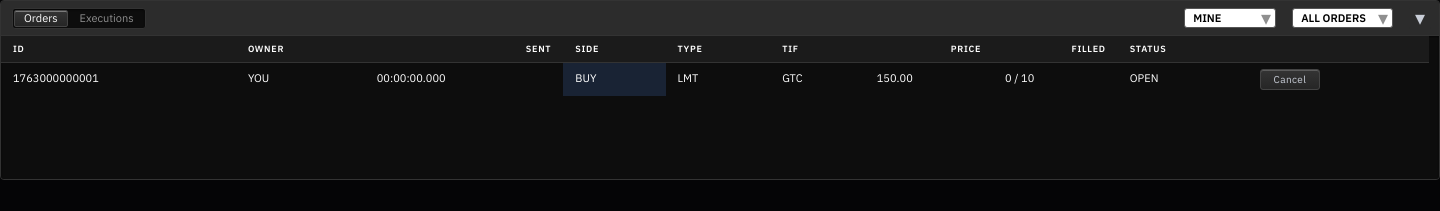
Test: OpenOrders owner filter and Owner column › a bot filter shows that bot alone, and an idle bot shows its empty line
The width and height of the screenshot is (1440, 211).
Click the button with test id "blotter-owner-filter-trigger" at (1230, 18), box [1184,8,1276,28]
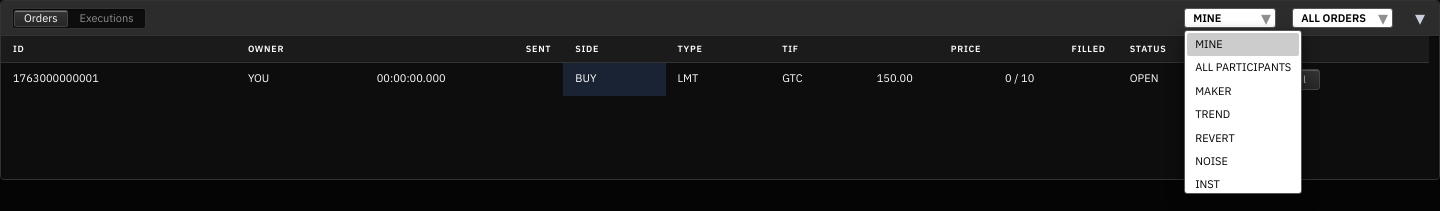
Press the mouse on the option "MAKER" at (1213, 91), box [1195,84,1232,98]
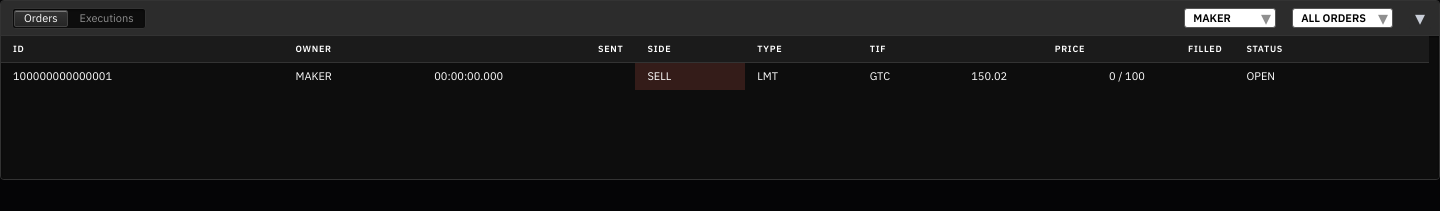
Expected: the number of rows with test id "open-orders-row" is 1, [1,63,1429,90]
Expected: the row with test id "open-orders-row" has class "open-orders__row--sell", [1,63,1429,90]
Click the button with test id "blotter-owner-filter-trigger" at (1230, 18), box [1184,8,1276,28]
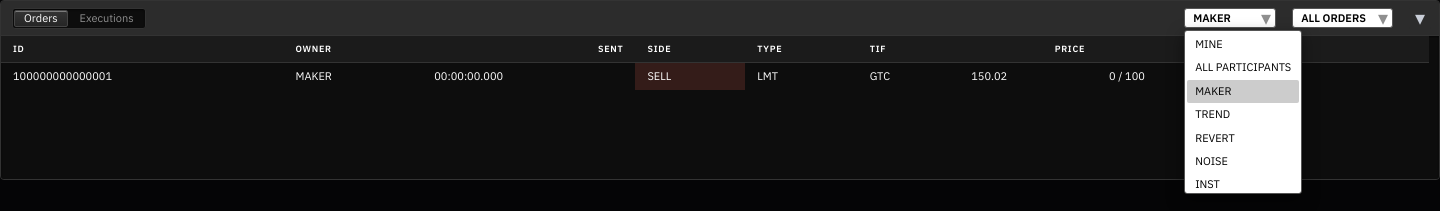
Press the mouse on the option "INST" at (1208, 184), box [1195,177,1220,191]
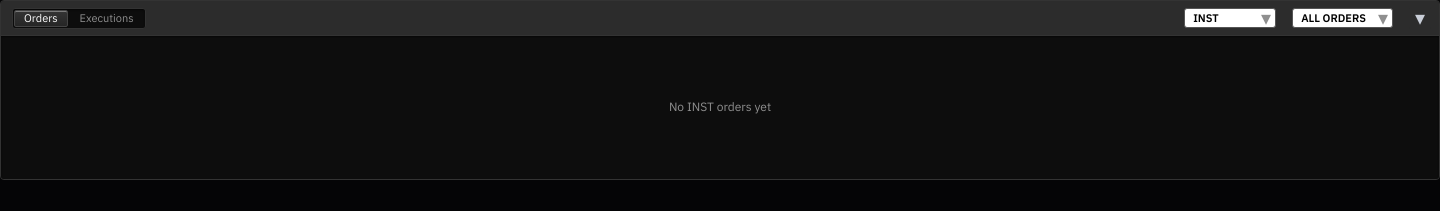
Expected: the text with test id "open-orders-empty" reads "No INST orders yet", [669,99,771,114]
